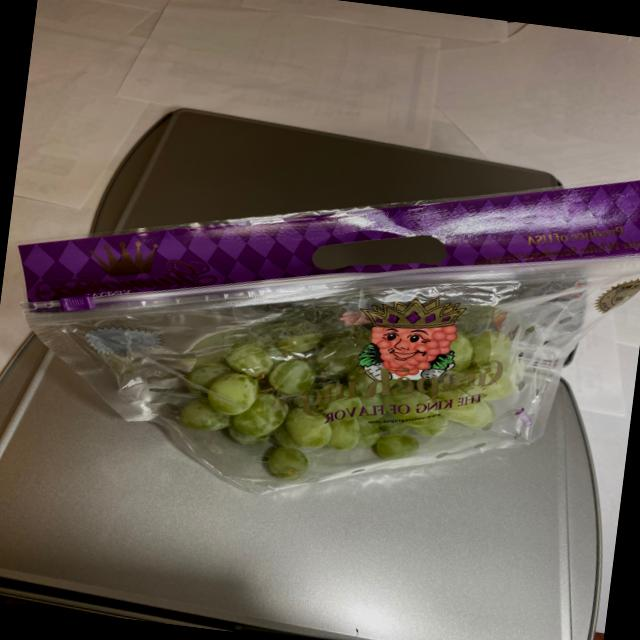grapes: (137, 297, 538, 498)
